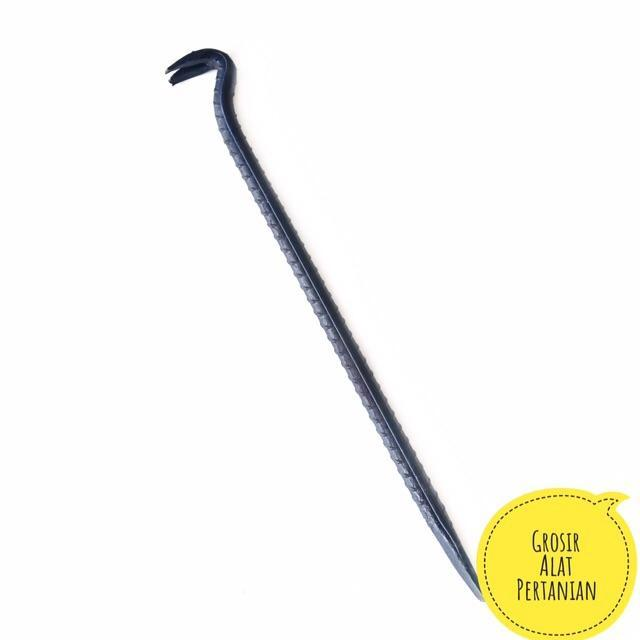Linggis: (148, 45, 480, 610)
